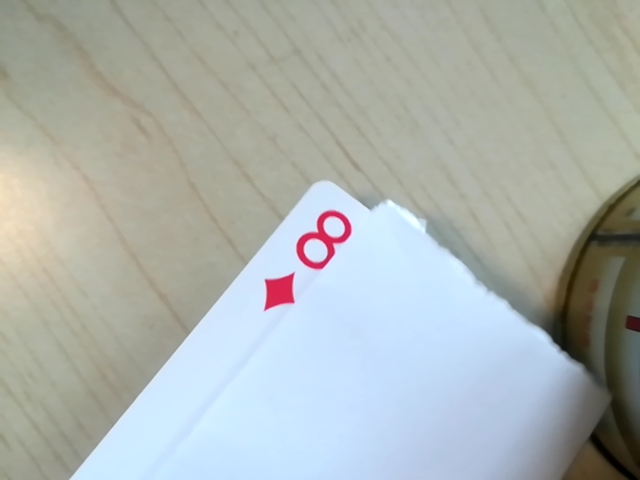fk 8: (260, 201, 366, 313)
